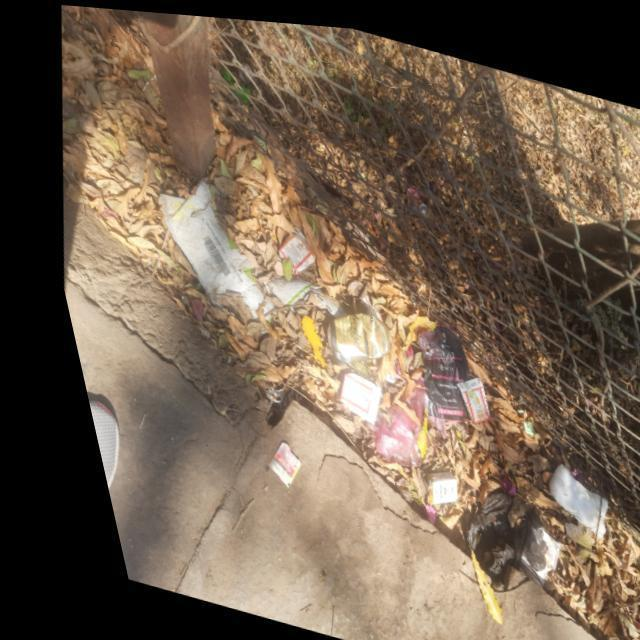Garbage: (54, 4, 640, 640)
Plastic_Bag: (151, 178, 250, 313), (444, 482, 507, 573), (253, 272, 332, 313), (354, 398, 402, 461), (388, 369, 427, 431), (228, 280, 251, 314), (249, 295, 260, 312)
Plastic_wraper: (248, 437, 280, 483)
Tetrapack: (322, 365, 365, 419), (267, 225, 304, 270), (440, 370, 471, 416), (404, 465, 436, 499)
can: (313, 308, 377, 359)
